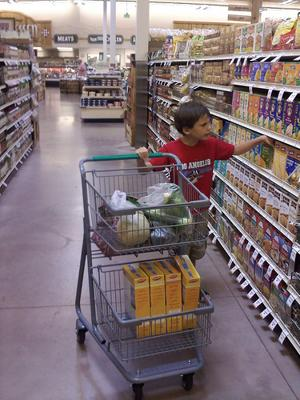person: (138, 101, 273, 270)
